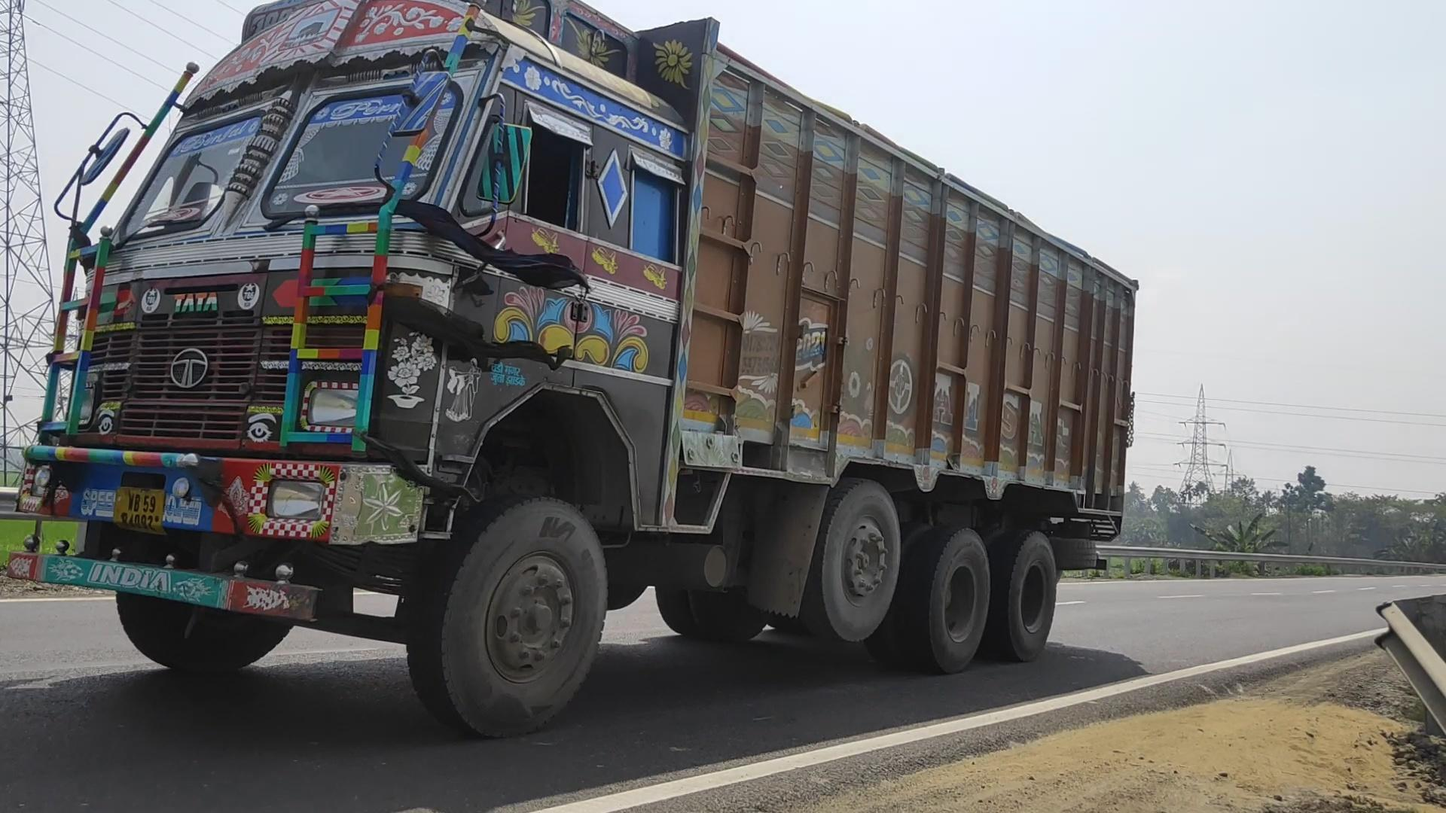truck: (9, 2, 1140, 740)
